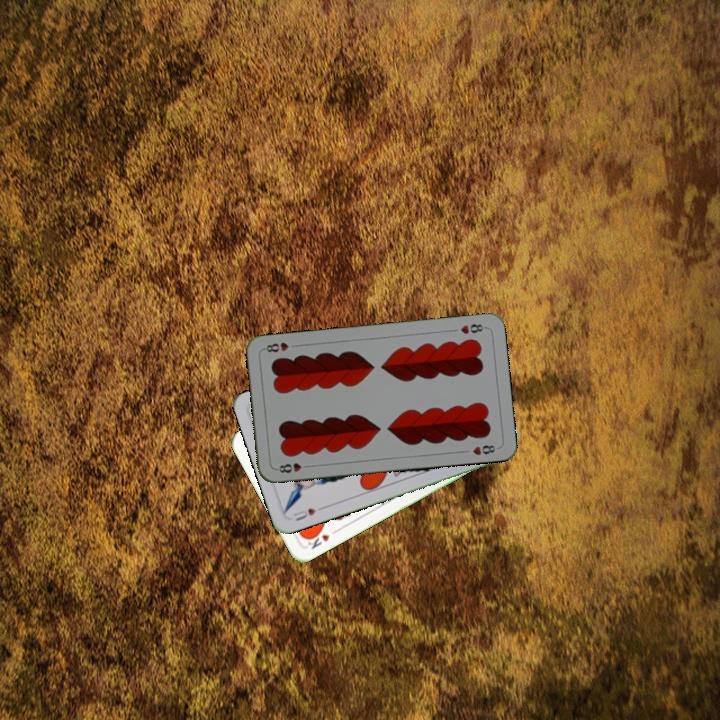H8: (272, 459, 313, 475), (456, 320, 489, 337)
HK: (303, 525, 341, 552)
HU: (289, 504, 319, 524)
